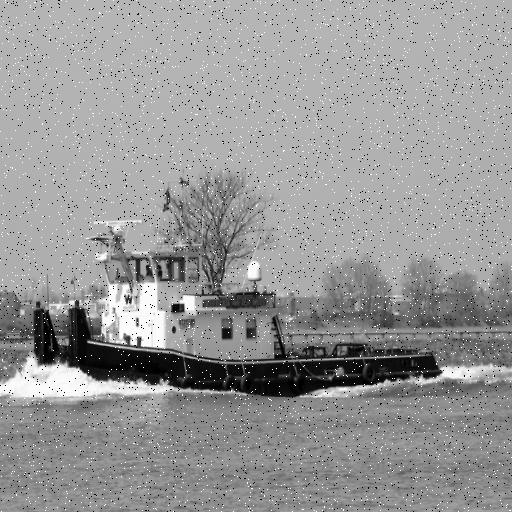tugboat: (31, 218, 446, 410)
